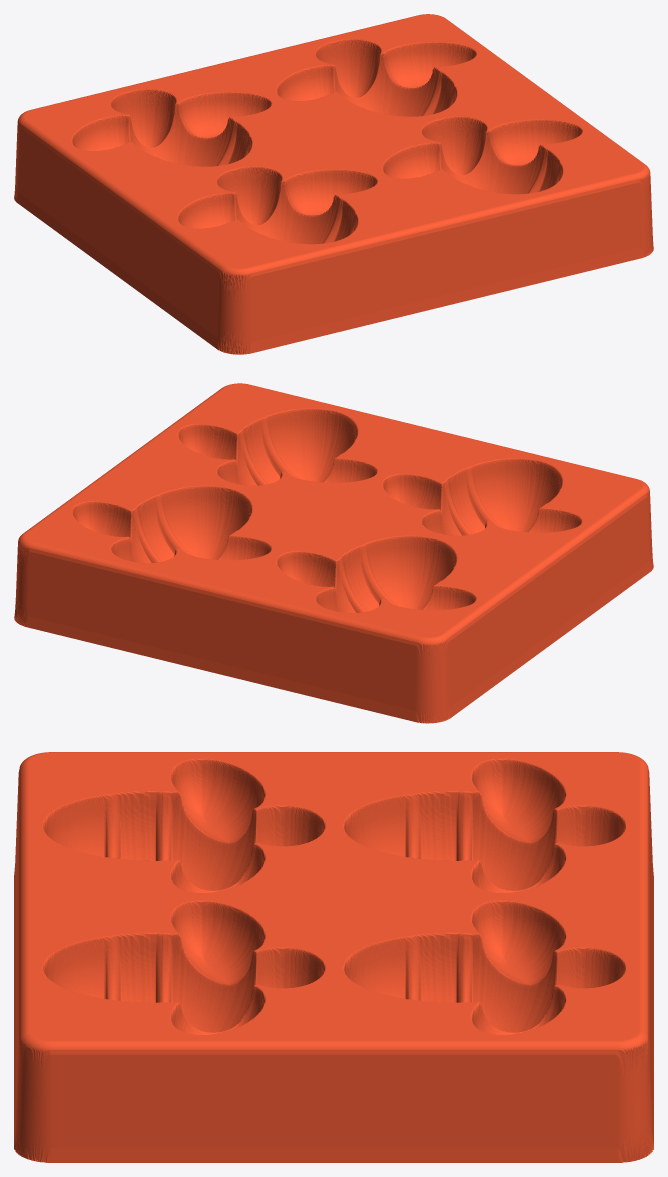
Rendered from mold.glb.
3 views of the same model, one above another, from view 1: azimuth 30°, elevation 25°; view 2: azimuth 150°, elevation 25°; view 3: azimuth 270°, elevation 25° (orthographic). The views are drawn at different scales.
Visible parts, largest first — view 1: geometry_0; view 2: geometry_0; view 3: geometry_0.
Boxes of the visible parts, x1=… form: geometry_0: x1=14, y1=14, x2=653, y2=354; geometry_0: x1=14, y1=383, x2=653, y2=723; geometry_0: x1=14, y1=752, x2=653, y2=1162.
Bounding box in the file's own units: 0.1721 × 0.031 × 0.1551.
